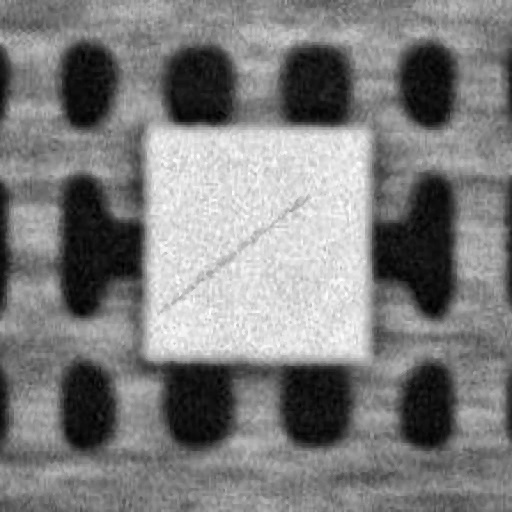DIE_CRACK: (234, 130, 456, 208)
